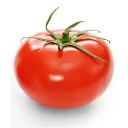tomato: (14, 30, 114, 109)
